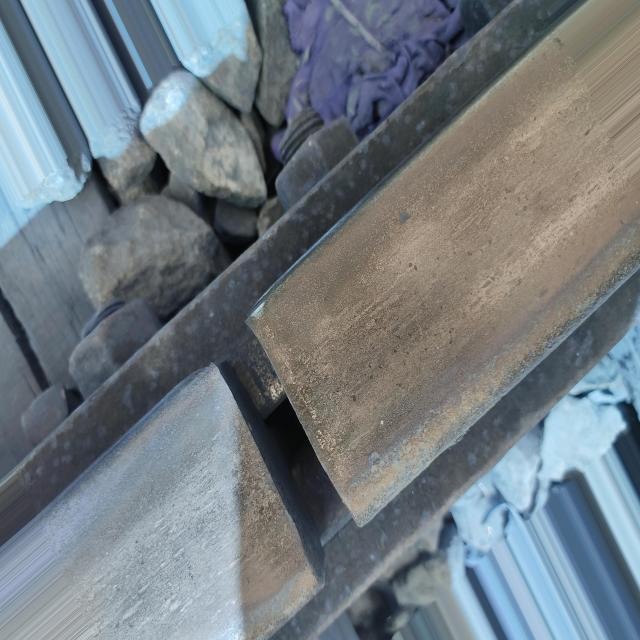crack: (164, 293, 377, 616)
